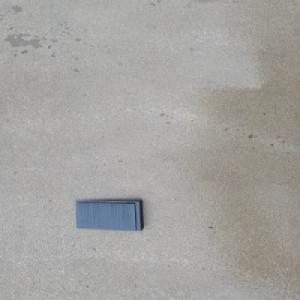PlasticPart: (74, 198, 145, 231)
